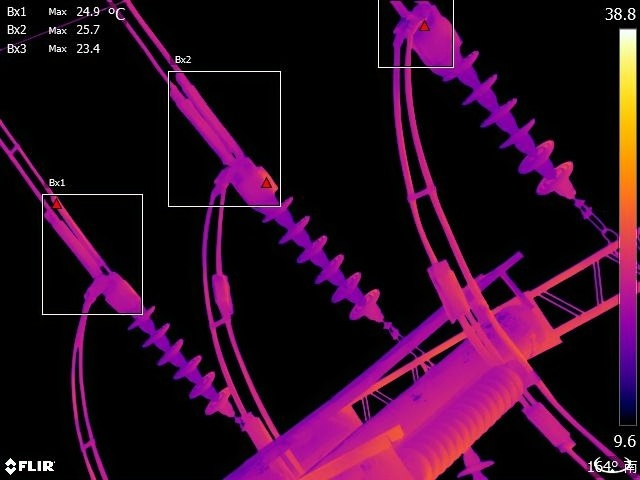clamp: (204, 157, 250, 194), (388, 9, 428, 51), (76, 270, 117, 310)
insulator: (256, 188, 396, 331), (459, 50, 577, 207), (125, 295, 243, 423)
post insulator: (395, 357, 526, 473)
